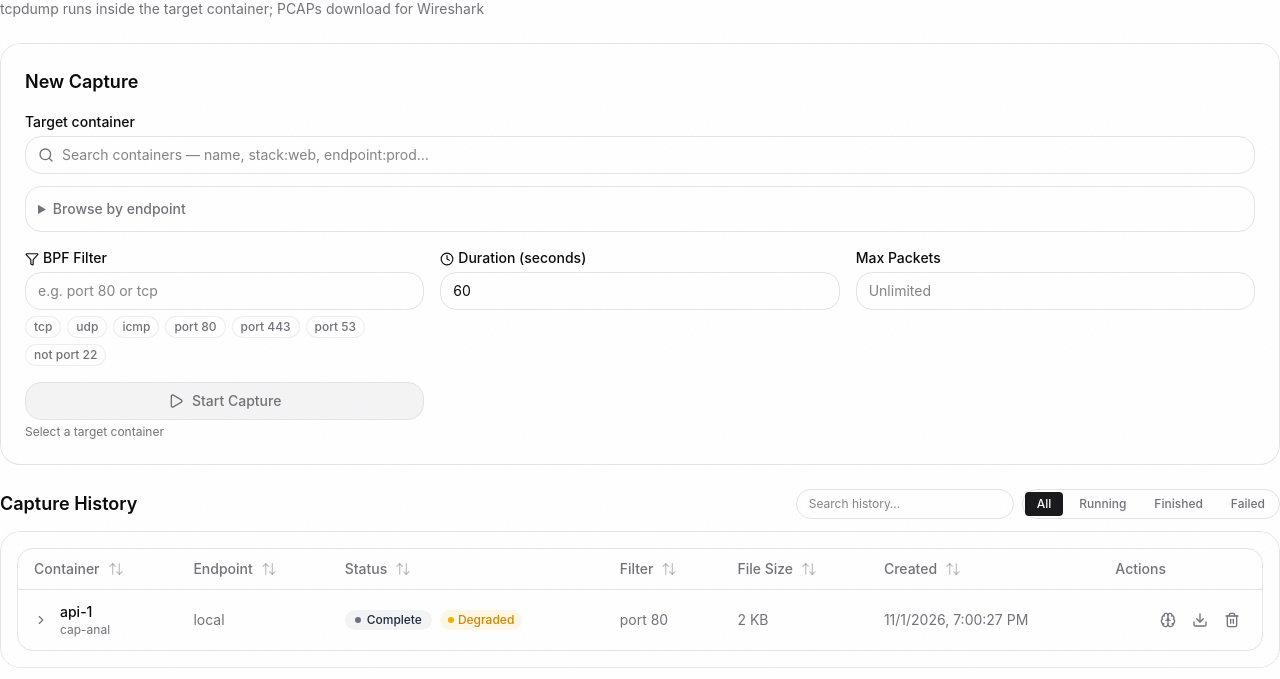
Test: PacketCapture › analysis confidence badge › shows the score the model supplied
Click the button titled "Toggle analysis". click: (41, 620)
box: 30,608 -> 52,630
(page scrolled)
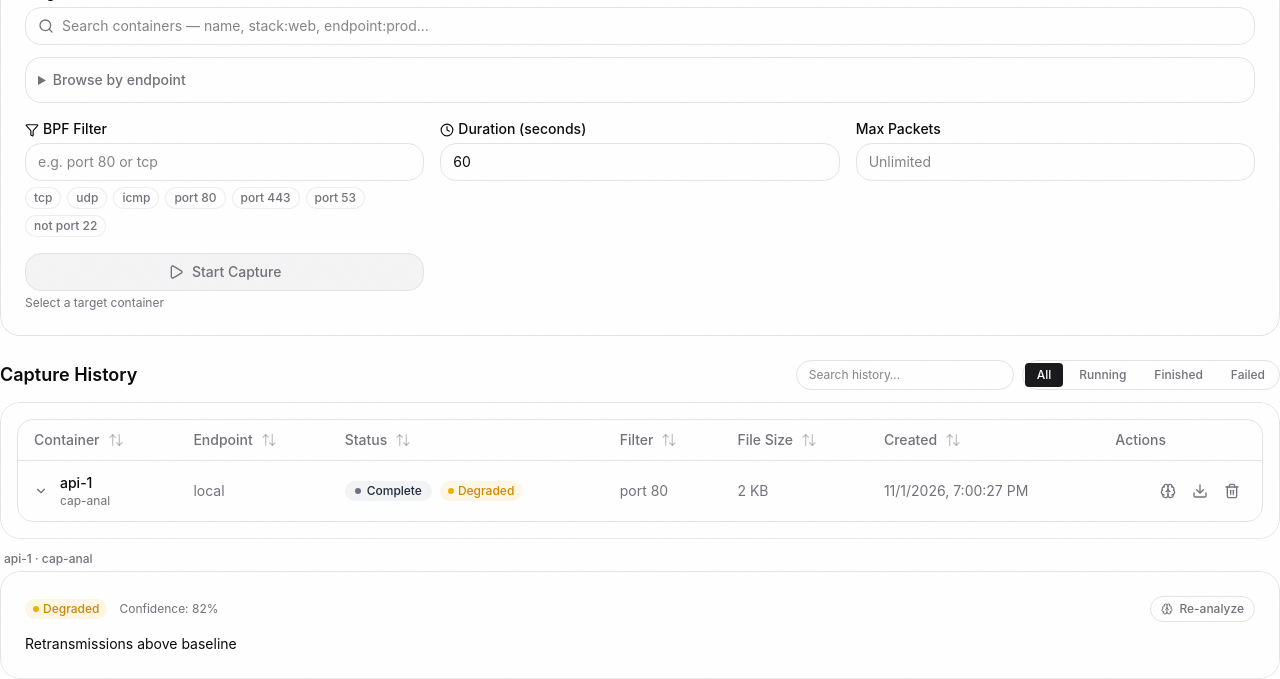
Result: the text "Confidence: 82%" is shown at 119,600 -> 218,616
